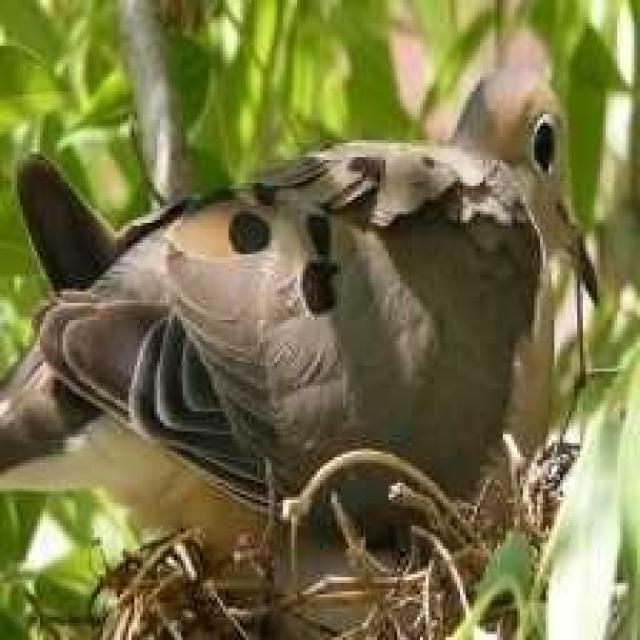dove: (0, 62, 599, 609)
